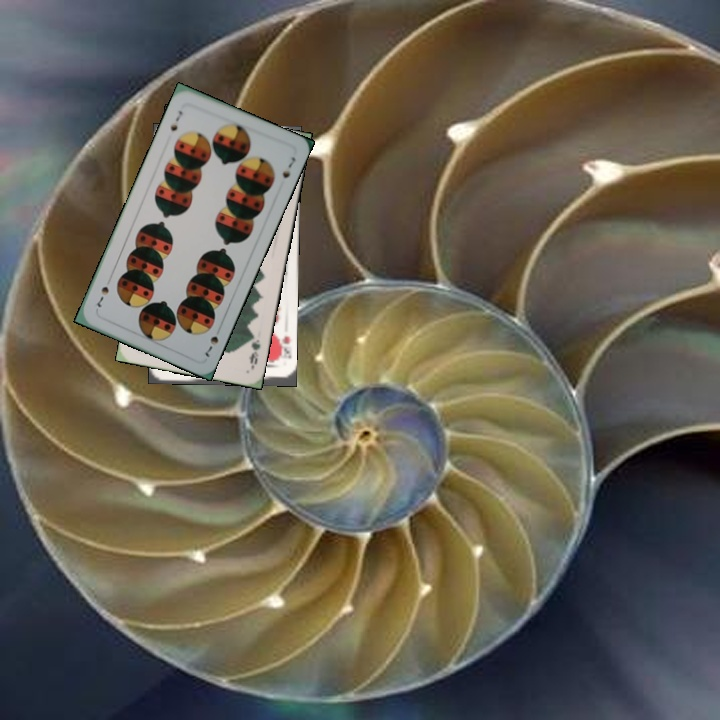G9: (245, 335, 263, 367)
HK: (273, 332, 293, 363)
S7: (201, 332, 221, 360), (166, 106, 185, 134)
